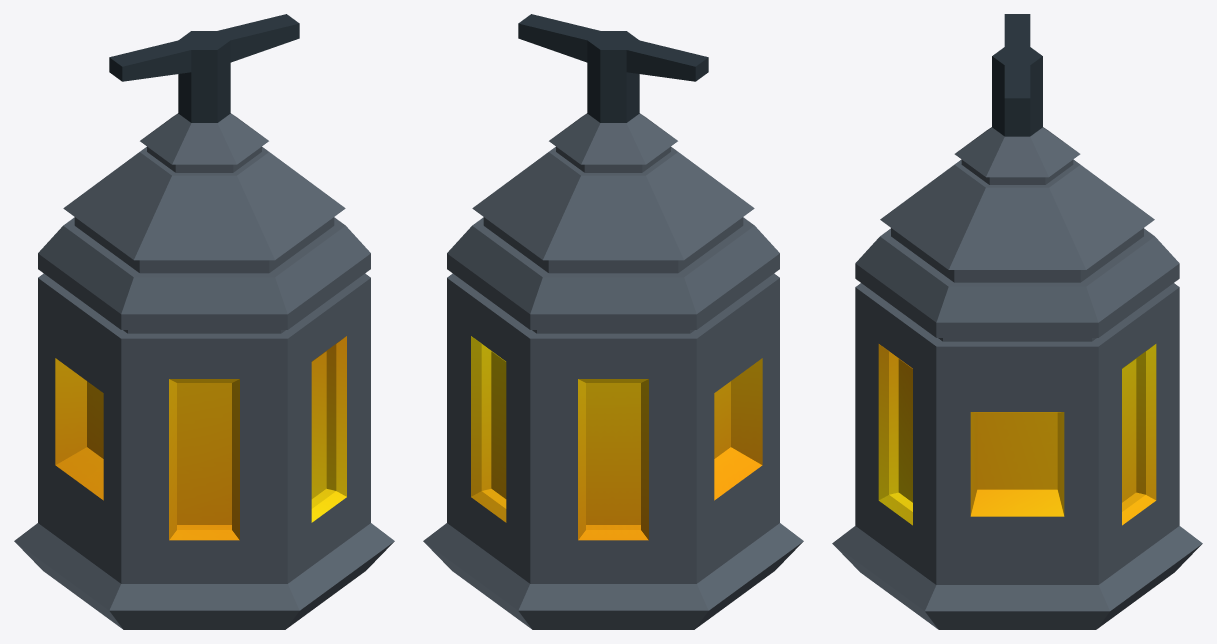
Rendered from Lantern (1).fbx.
3 renders of one model, left to right at view 1: azimuth 30°, elevation 25°; view 2: azimuth 150°, elevation 25°; view 3: azimuth 270°, elevation 25°, orthographic. The views are drawn at different scales.
Visible parts, largest first — view 1: Lantern; view 2: Lantern; view 3: Lantern.
Part boxes in pixels (left/top/right/bottom): Lantern: left=14, top=14, right=394, bottom=629; Lantern: left=423, top=14, right=803, bottom=629; Lantern: left=832, top=14, right=1202, bottom=629.
Bounding box in the file's own units: 173 × 307 × 200.
